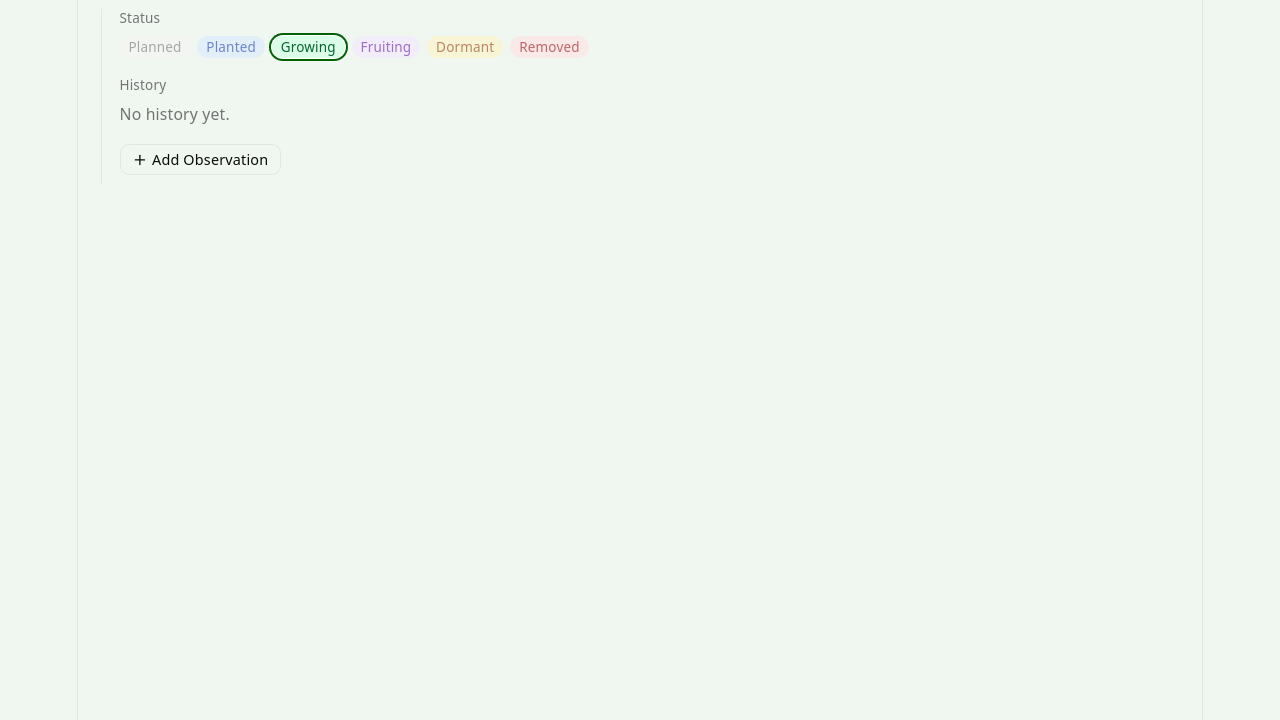
Test: PlantTimeline › hides the form and shows the button again when cancelled
Click the button "Add Observation".
click(200, 160)  # box [120,144,280,176]
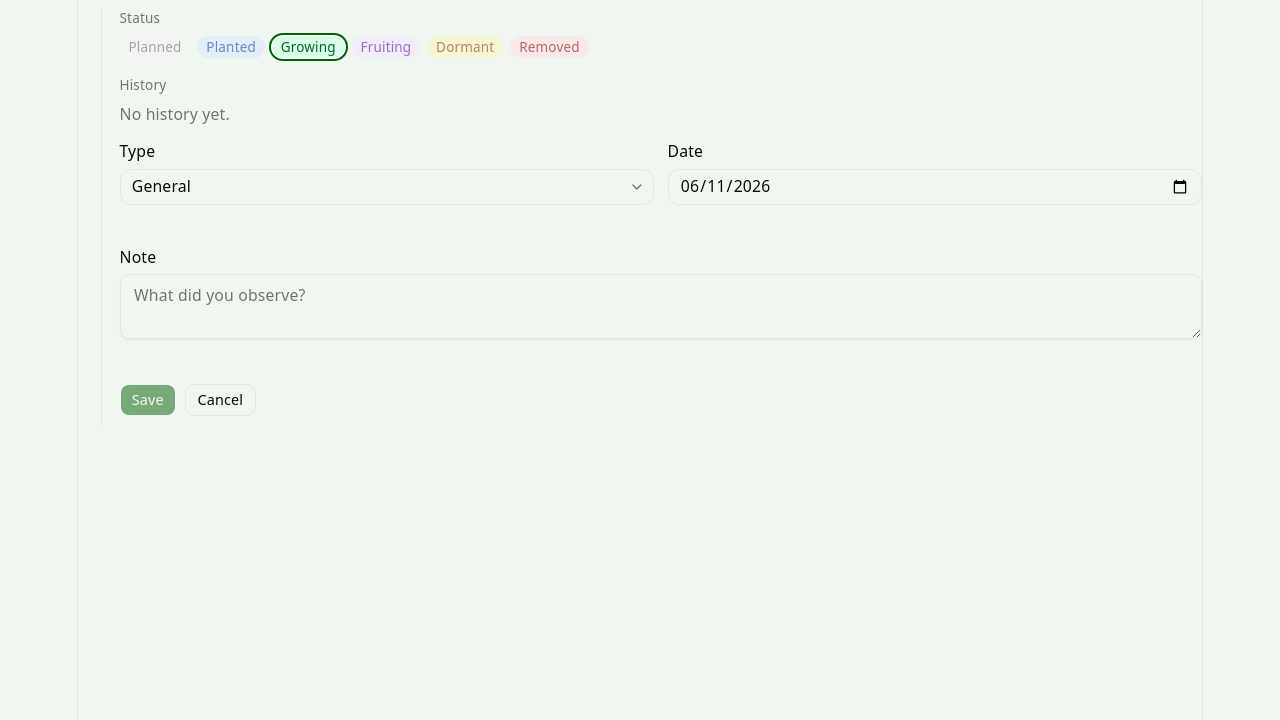
Click the button "Cancel".
click(220, 400)  # box [185,384,256,416]
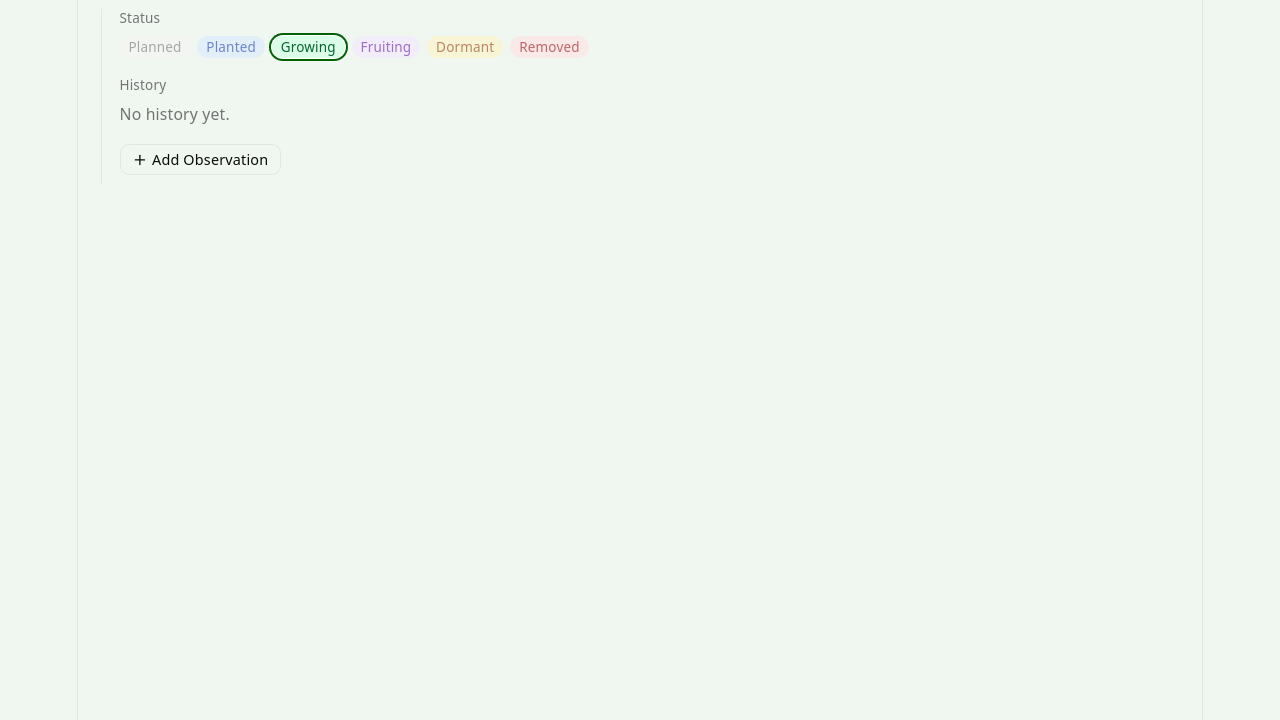
Result: the button "Add Observation" is shown at [120,144,280,176]
